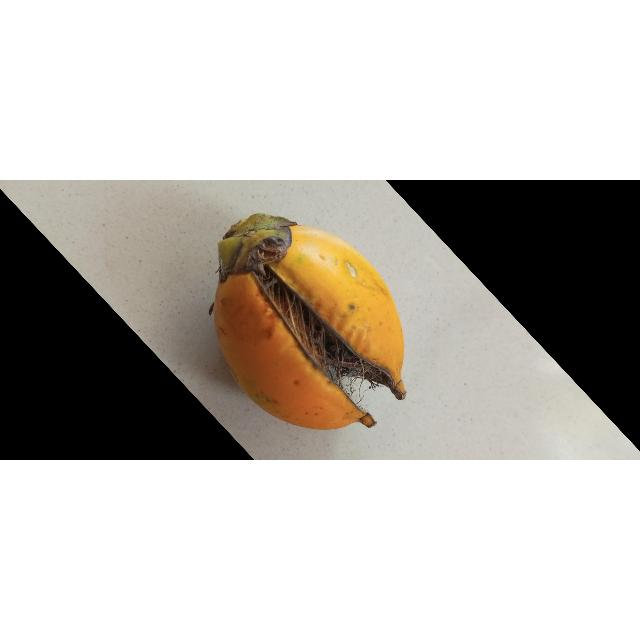damaged: (211, 214, 407, 432)
